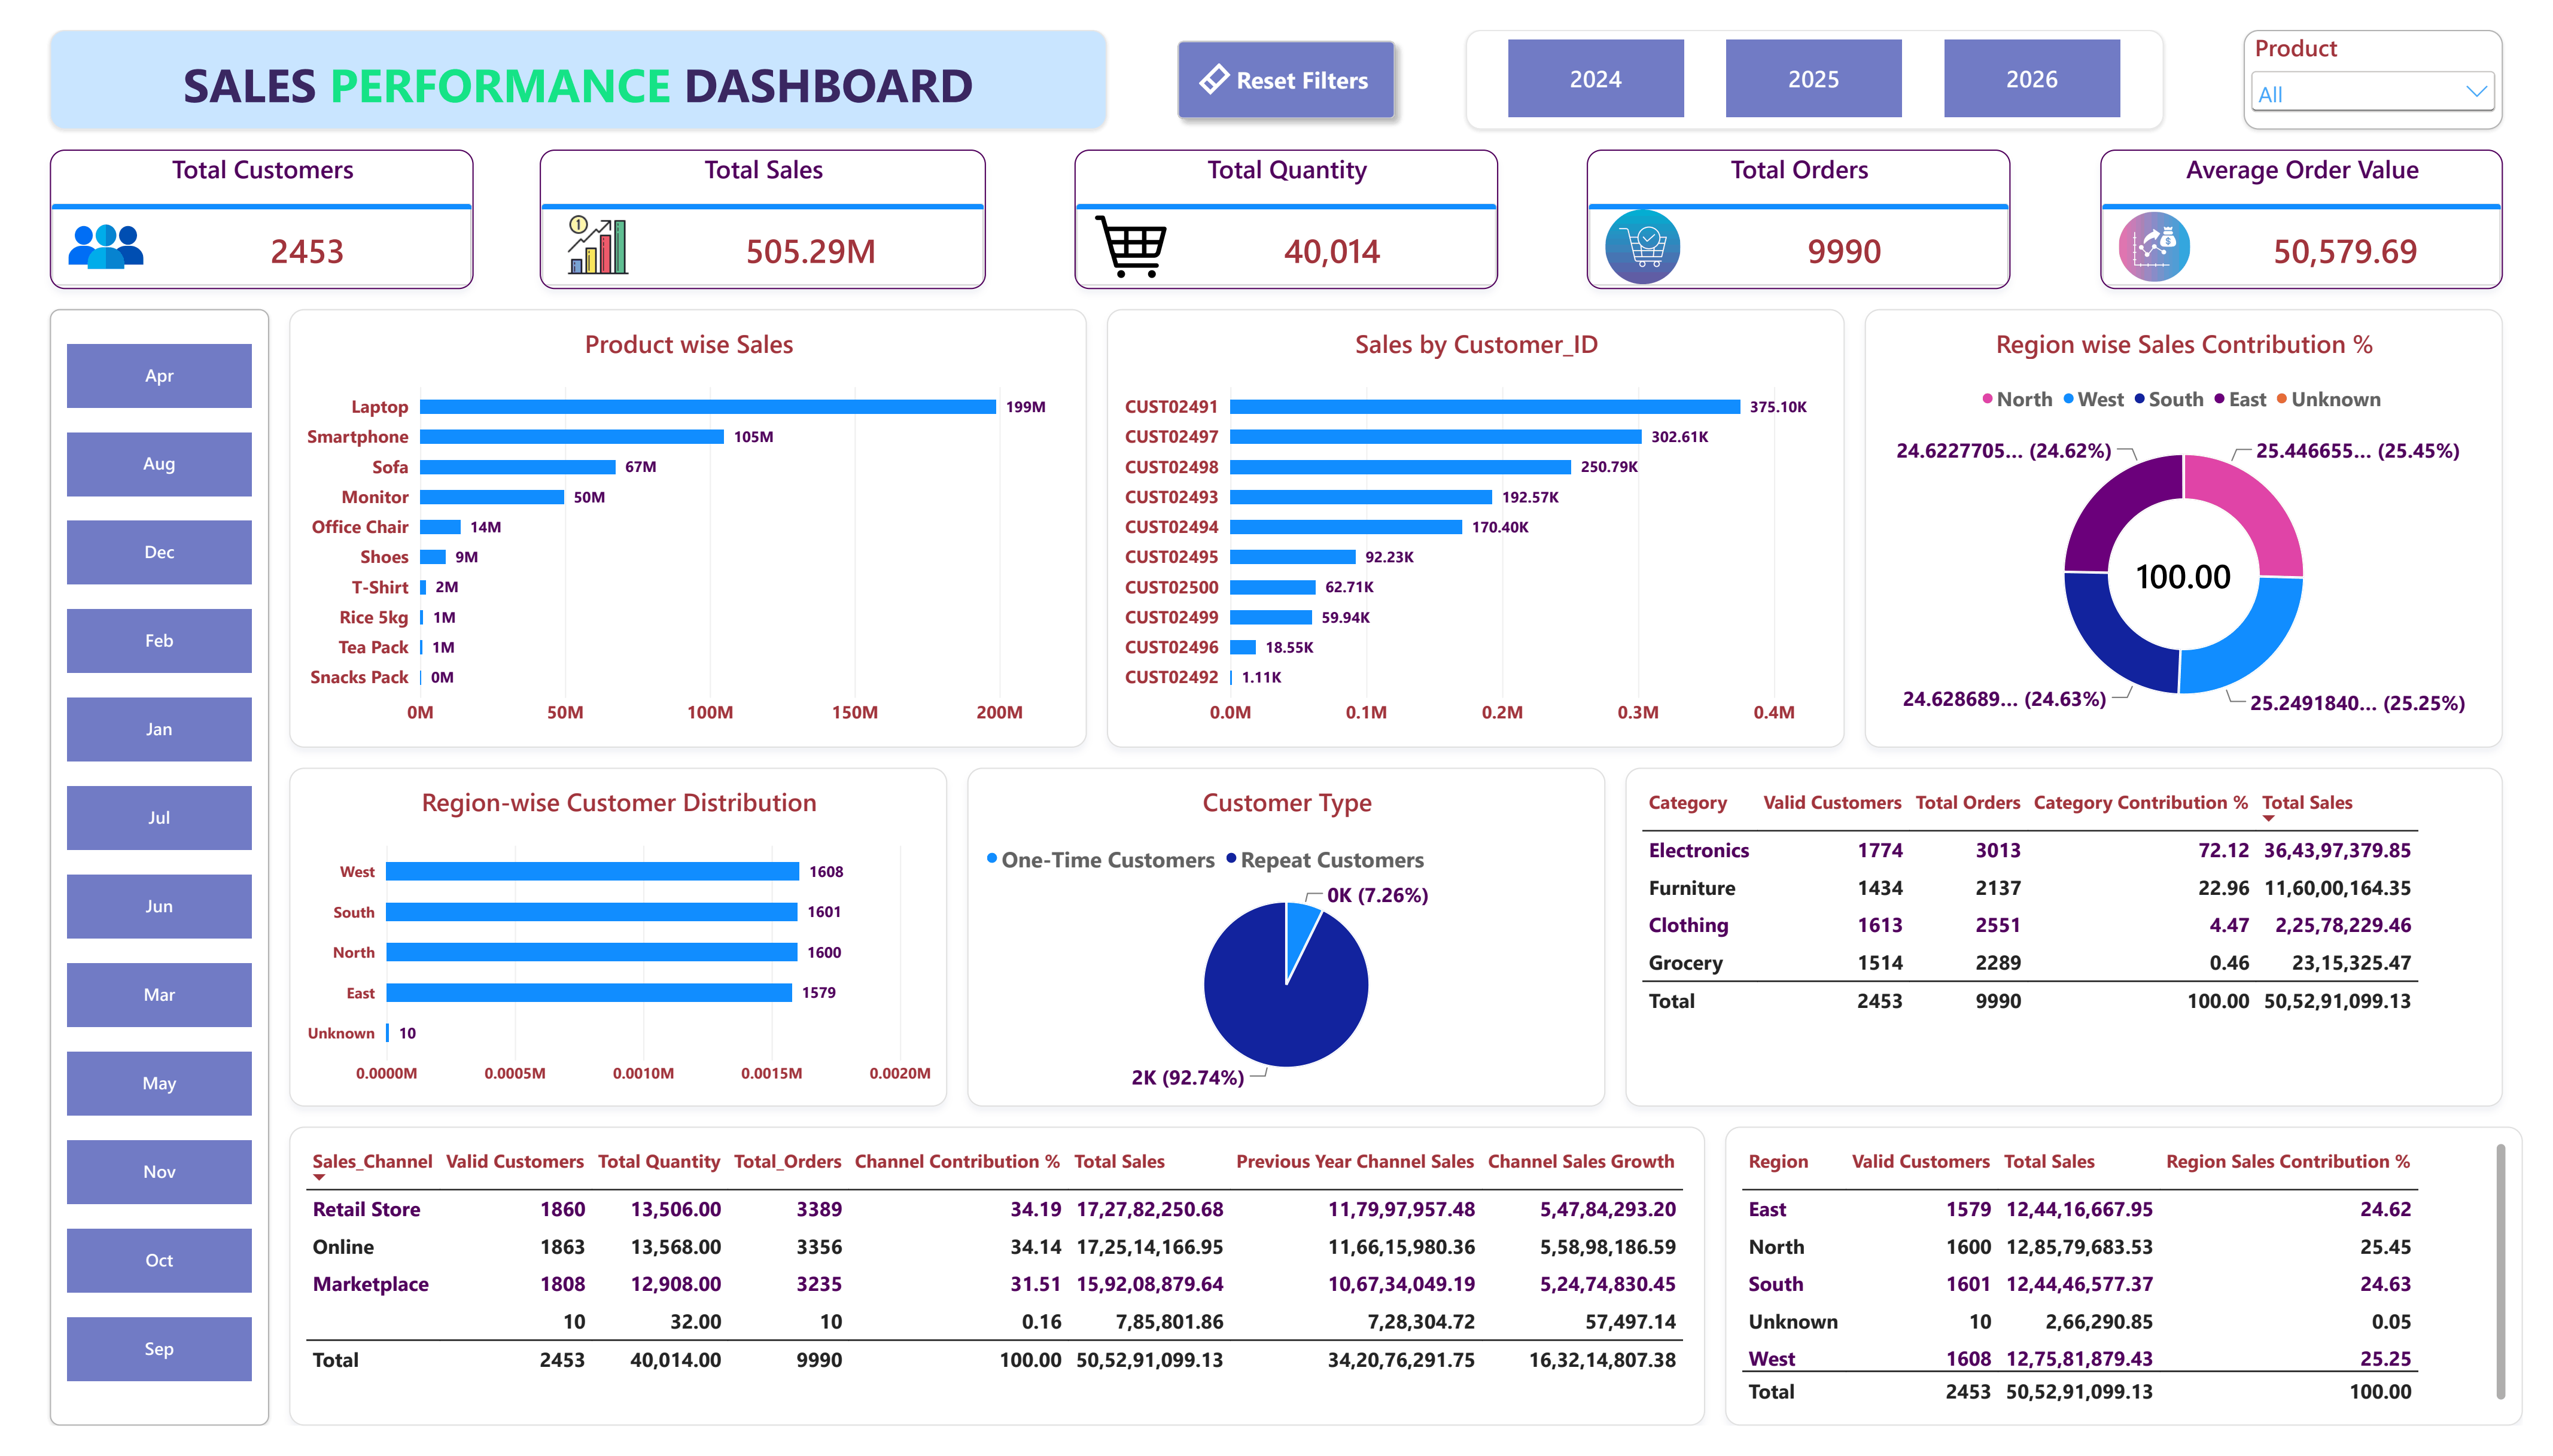

What the dashboard file says about the page in this screenshot:
{"tool":"powerbi","page":{"name":"Overview 2","canvas":[2000,1120],"ordinal":1},"visuals":[{"type":"textbox","box":[16,0,848,80],"z":0,"group":"g1"},{"type":"cardVisual","title":"Total Customers","fields":{"Data":["Measures_Table.Total Customers"]},"box":[16,96,339.6,112],"z":0,"group":"g3"},{"type":"clusteredBarChart","title":"Product wise Sales","fields":{"Category":["Final_Sales_Data.Product"],"Y":["Measures_Table.Total Sales"]},"box":[208,224,640,352],"z":0},{"type":"advancedSlicerVisual","fields":{"Values":["Date_Table.Year"]},"box":[1152,0,560,80],"z":1000,"group":"g1"},{"type":"cardVisual","title":"Average Order Value","fields":{"Data":["Measures_Table.Average Order Value"]},"box":[1661.4,96,322.6,112],"z":1000,"group":"g3"},{"type":"clusteredBarChart","title":"Sales by Customer_ID","fields":{"Category":["Final_Sales_Data.Customer_ID"],"Y":["Measures_Table.Total Sales"]},"box":[864,224,592,352],"z":1000},{"type":"slicer","fields":{"Values":["Final_Sales_Data.Product"]},"box":[1776,0,208,80],"z":2000,"group":"g1"},{"type":"cardVisual","title":"Total Sales","fields":{"Data":["Measures_Table.Total Sales"]},"box":[409.3,96,357.5,112],"z":2000,"group":"g3"},{"type":"pieChart","title":"Customer Type","fields":{"Y":["Measures_Table.One-Time Customers","Measures_Table.Repeat Customers"]},"box":[752,592,512,272],"z":2000},{"type":"cardVisual","title":"Total Orders","fields":{"Data":["Measures_Table.Total_Orders"]},"box":[1249.4,96,339.6,112],"z":3000,"group":"g3"},{"type":"clusteredBarChart","title":"Region-wise Customer Distribution","fields":{"Category":["Final_Sales_Data.Region"],"Y":["Measures_Table.Total Customers"]},"box":[208,592,528,272],"z":3000},{"type":"cardVisual","title":"Total Quantity","fields":{"Data":["Measures_Table.Total Quantity"]},"box":[838.3,96,339.6,112],"z":4000,"group":"g3"},{"type":"donutChart","title":"Region wise Sales Contribution %","fields":{"Category":["Final_Sales_Data.Region"],"Y":["Measures_Table.Region Sales Contribution %"]},"box":[1472,224,512,352],"z":4000},{"type":"tableEx","fields":{"Values":["Final_Sales_Data.Region","Measures_Table.Valid Customers","Measures_Table.Total Sales","Measures_Table.Region Sales Contribution %"]},"box":[1360,880,640,240],"z":5000},{"type":"group","id":"g1","title":"Group 2","box":[16,0,1968,80],"z":7000,"group":"g2"},{"type":"tableEx","fields":{"Values":["Final_Sales_Data.Sales_Channel","Measures_Table.Valid Customers","Measures_Table.Total Quantity","Measures_Table.Total_Orders","Measures_Table.Channel Contribution %","Measures_Table.Total Sales","Measures_Table.Previous Year Channel Sales","Measures_Table.Channel Sales Growth"]},"box":[208,880,1136,240],"z":7001},{"type":"tableEx","fields":{"Values":["Final_Sales_Data.Category","Measures_Table.Valid Customers","Measures_Table.Total_Orders","Measures_Table.Category Contribution %","Measures_Table.Total Sales"]},"box":[1280,592,704,272],"z":7002},{"type":"advancedSlicerVisual","title":"Months","fields":{"Values":["Date_Table.Short Month"]},"box":[16,224,176,896],"z":7003},{"type":"group","id":"g2","title":"Group 3","box":[16,0,1968,80],"z":7004},{"type":"group","id":"g3","title":"Group 1","box":[16,96,1968,112],"z":7005},{"type":"actionButton","box":[912,0,192,80],"z":9001,"group":"g2"}]}

Visuals, with their boxes on the page's 2000x1120 design canvas (x1, y1, x2, y2). These are canvas units, not pixel positions in the 2553x1456 screenshot, which may show the page scaled, cropped or inside an application window:
textbox: rect(16, 0, 864, 80)
"Total Customers" cardVisual: rect(16, 96, 356, 208)
"Product wise Sales" clusteredBarChart: rect(208, 224, 848, 576)
advancedSlicerVisual - Date_Table.Year: rect(1152, 0, 1712, 80)
"Average Order Value" cardVisual: rect(1661, 96, 1984, 208)
"Sales by Customer_ID" clusteredBarChart: rect(864, 224, 1456, 576)
slicer - Final_Sales_Data.Product: rect(1776, 0, 1984, 80)
"Total Sales" cardVisual: rect(409, 96, 767, 208)
"Customer Type" pieChart: rect(752, 592, 1264, 864)
"Total Orders" cardVisual: rect(1249, 96, 1589, 208)
"Region-wise Customer Distribution" clusteredBarChart: rect(208, 592, 736, 864)
"Total Quantity" cardVisual: rect(838, 96, 1178, 208)
"Region wise Sales Contribution %" donutChart: rect(1472, 224, 1984, 576)
tableEx - Final_Sales_Data.Region x Measures_Table.Valid Customers: rect(1360, 880, 2000, 1120)
"Group 2" group: rect(16, 0, 1984, 80)
tableEx - Final_Sales_Data.Sales_Channel x Measures_Table.Valid Customers: rect(208, 880, 1344, 1120)
tableEx - Final_Sales_Data.Category x Measures_Table.Valid Customers: rect(1280, 592, 1984, 864)
"Months" advancedSlicerVisual: rect(16, 224, 192, 1120)
"Group 3" group: rect(16, 0, 1984, 80)
"Group 1" group: rect(16, 96, 1984, 208)
actionButton: rect(912, 0, 1104, 80)
